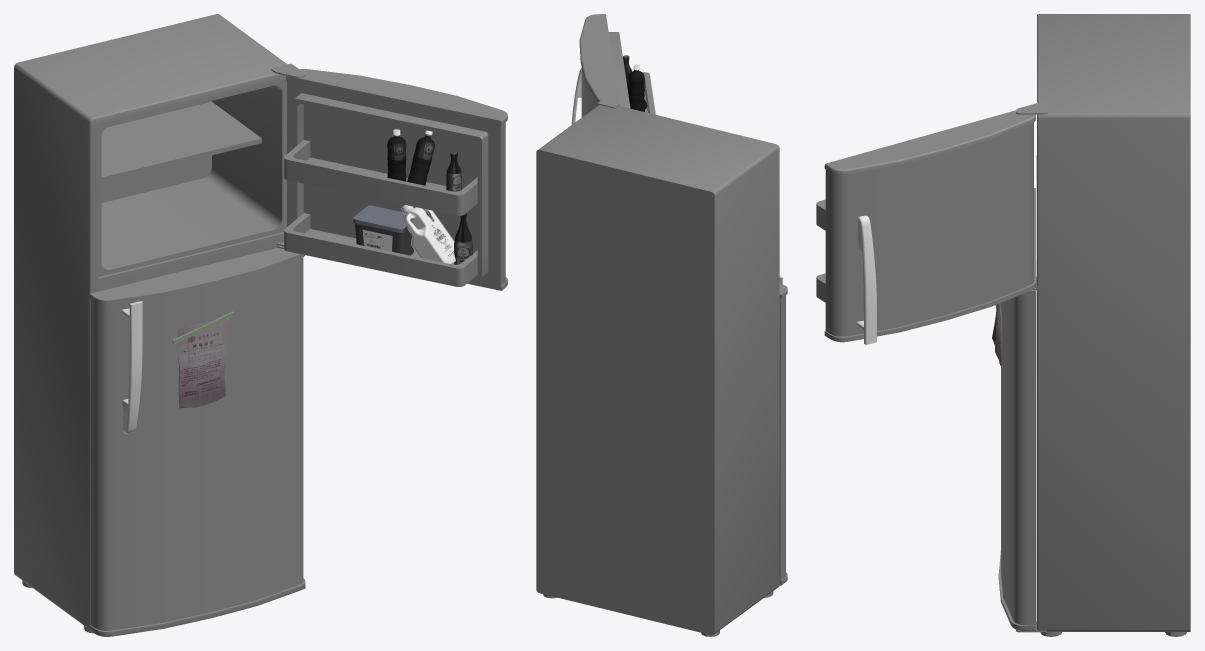
The model's file is refrigerator_new.fbx.
The picture shows the model from 3 angles, left to right: view 1: azimuth 30°, elevation 25°; view 2: azimuth 150°, elevation 25°; view 3: azimuth 270°, elevation 25°; orthographic projection. The views are drawn at different scales.
Parts seen in each view (by area): view 1: a-rifrigDoor, a-rifrig, Plane.009, box01, Cylinder.002, a-rifrigHandle, Cylinder, Cylinder.001; view 2: a-rifrig, a-rifrigDoor, Cylinder.001; view 3: a-rifrig, a-rifrigDoor, a-rifrigHandle.
Part boxes in pixels (x1,y1,x2,y2): a-rifrigDoor: [89, 63, 507, 636]; a-rifrig: [14, 14, 287, 633]; Plane.009: [172, 311, 234, 408]; box01: [353, 205, 413, 255]; Cylinder.002: [400, 205, 455, 264]; a-rifrigHandle: [121, 301, 142, 433]; Cylinder: [407, 130, 434, 185]; Cylinder.001: [387, 129, 406, 181]; a-rifrig: [536, 105, 779, 636]; a-rifrigDoor: [579, 14, 787, 585]; Cylinder.001: [628, 64, 644, 111]; a-rifrig: [1036, 14, 1190, 636]; a-rifrigDoor: [816, 103, 1047, 632]; a-rifrigHandle: [856, 215, 996, 344].
Bounding box in the file's own units: 103 × 156 × 101.
2 materials, 1 textured.
